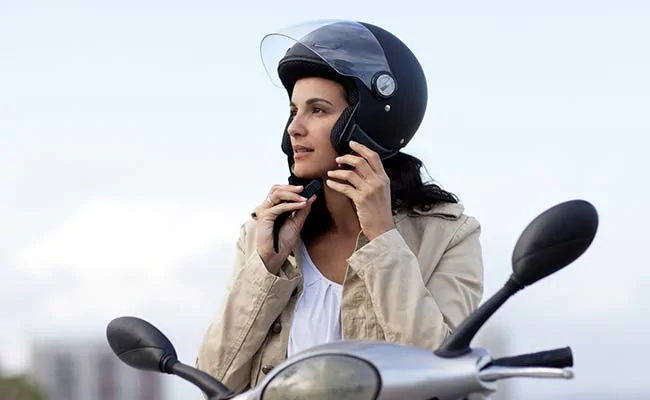with_helmet: (258, 23, 434, 165)
